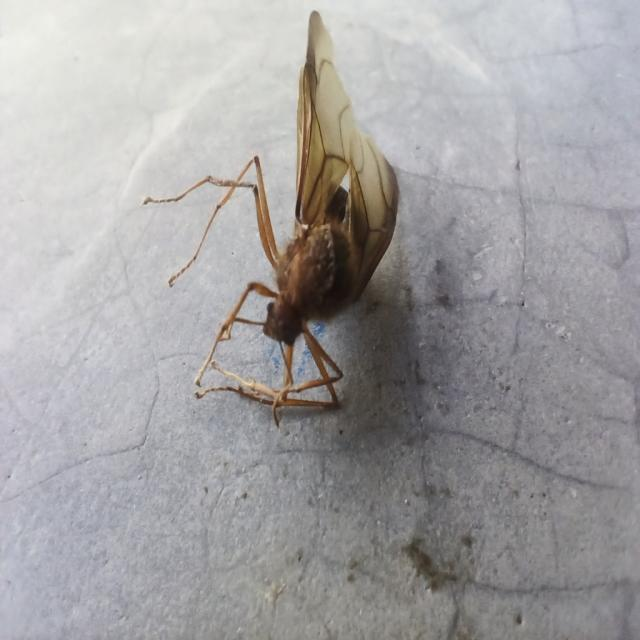Dead-Male-Alate: (140, 10, 400, 428)
